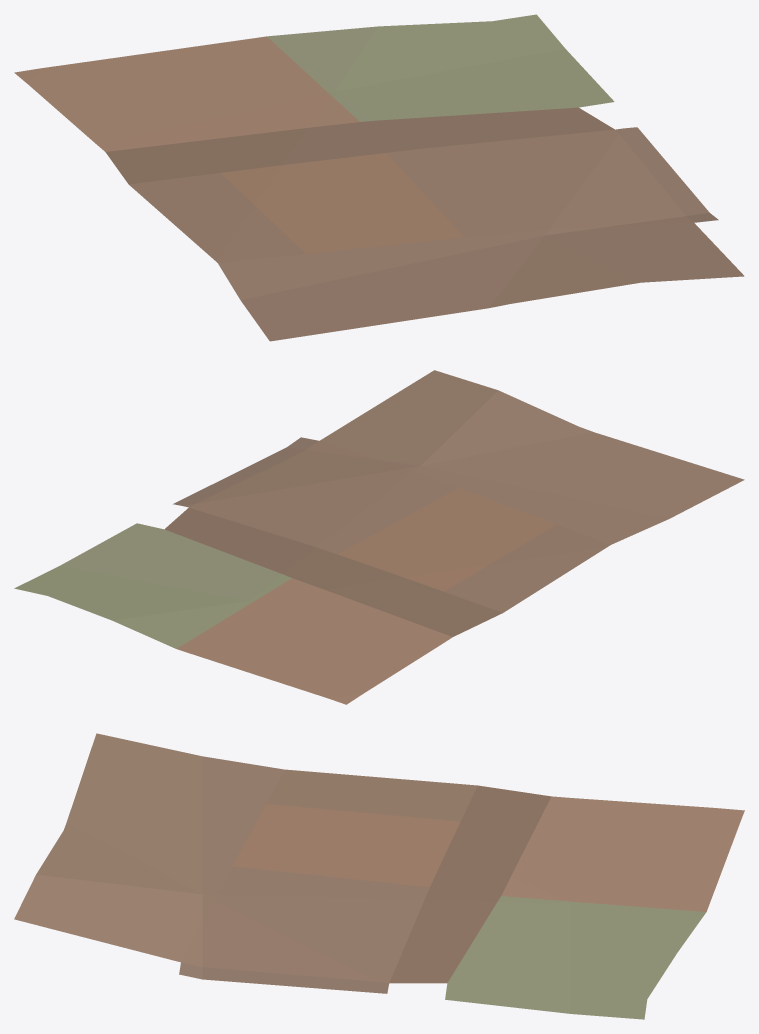
The model's file is farm_-59_-54_soil.glb.
The picture shows the model from 3 angles, top to bottom: view 1: azimuth 30°, elevation 25°; view 2: azimuth 150°, elevation 25°; view 3: azimuth 270°, elevation 25°; orthographic projection. The views are drawn at different scales.
Visible parts, largest first — view 1: geometry_0; view 2: geometry_0; view 3: geometry_0.
Boxes of the visible parts, x1,y1,x2,y2 form: geometry_0: (14,14,744,341); geometry_0: (14,370,744,704); geometry_0: (14,733,744,1019).
Size of the model in its own units: 127 by 9.82 by 159.
